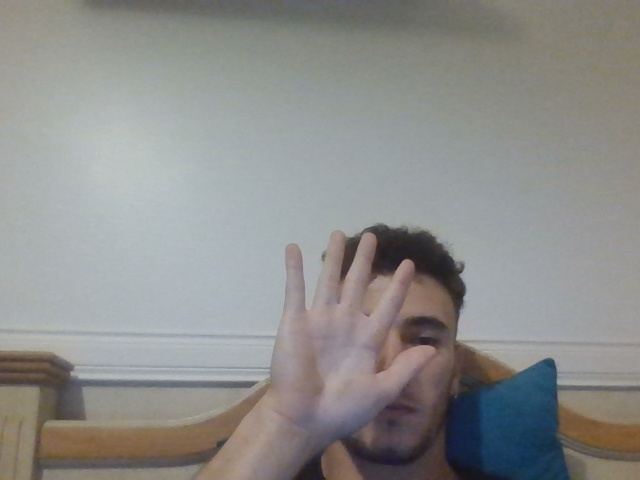Play: (270, 231, 439, 435)
